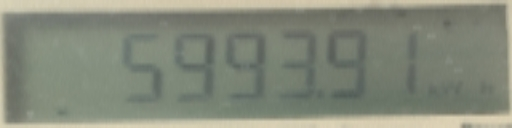1: (398, 26, 422, 102)
2: (266, 21, 318, 103)
5: (118, 26, 164, 114)
9: (218, 26, 273, 110), (324, 17, 373, 105), (168, 24, 218, 110)
d: (314, 81, 326, 106)
